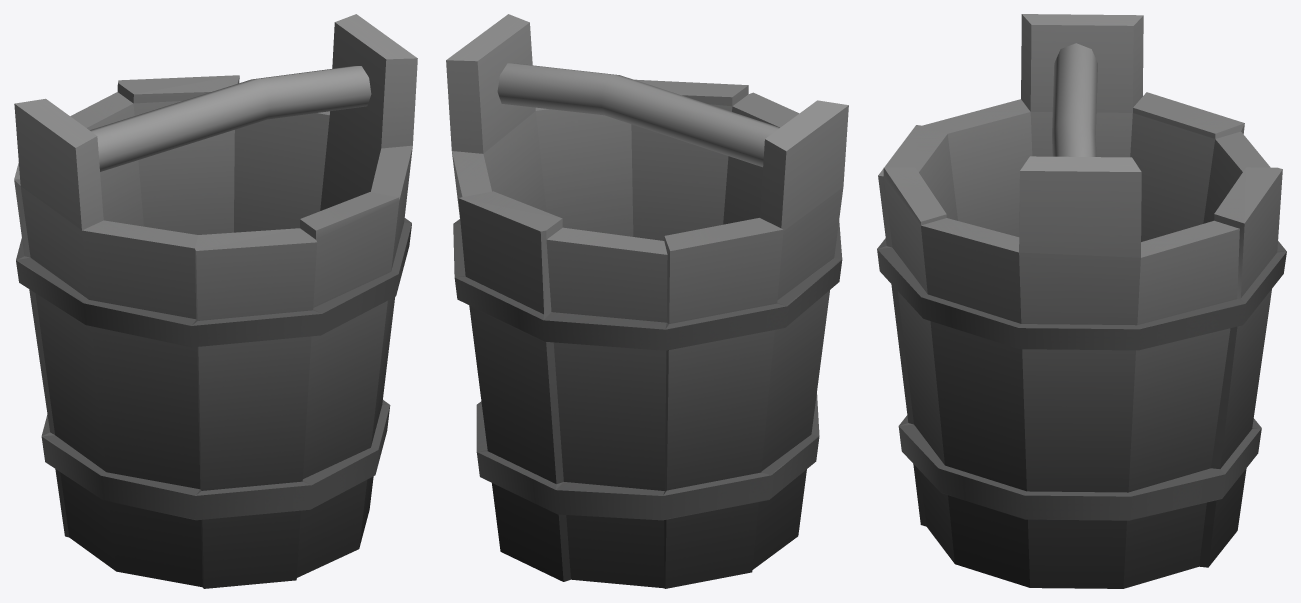
File: BucketMESH_02.fbx
The picture shows the model from 3 angles, left to right: view 1: azimuth 30°, elevation 25°; view 2: azimuth 150°, elevation 25°; view 3: azimuth 270°, elevation 25°; orthographic projection.
Parts seen in each view (by area): view 1: BucketMESH_02; view 2: BucketMESH_02; view 3: BucketMESH_02.
Boxes of the visible parts, left/top/right/bottom form: BucketMESH_02: left=14, top=14, right=417, bottom=588; BucketMESH_02: left=446, top=14, right=848, bottom=588; BucketMESH_02: left=877, top=14, right=1286, bottom=588.
Bounding box in the file's own units: 85.12 × 107 × 89.82.
